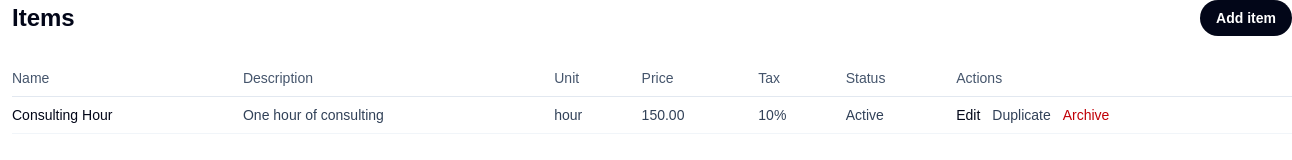
Test: ItemListView › archives an item and removes the Archive button, keeping it in the list
Expected: the text "Consulting Hour" is shown, x1=12 y1=96 x2=243 y2=134
What coordinates should you click on to do the following:
click the button "Archive"
I would click on:
 (1086, 115)
Its box is x1=1063 y1=105 x2=1109 y2=125.
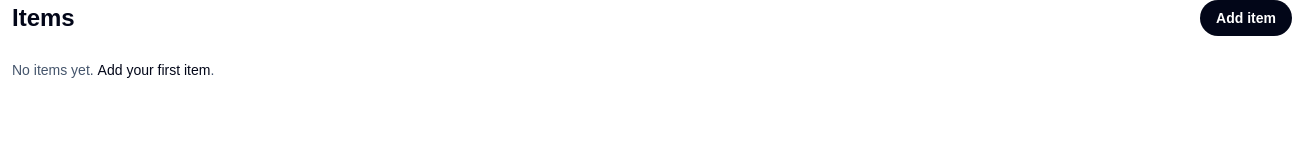
Expected: the text "Consulting Hour" is gone
